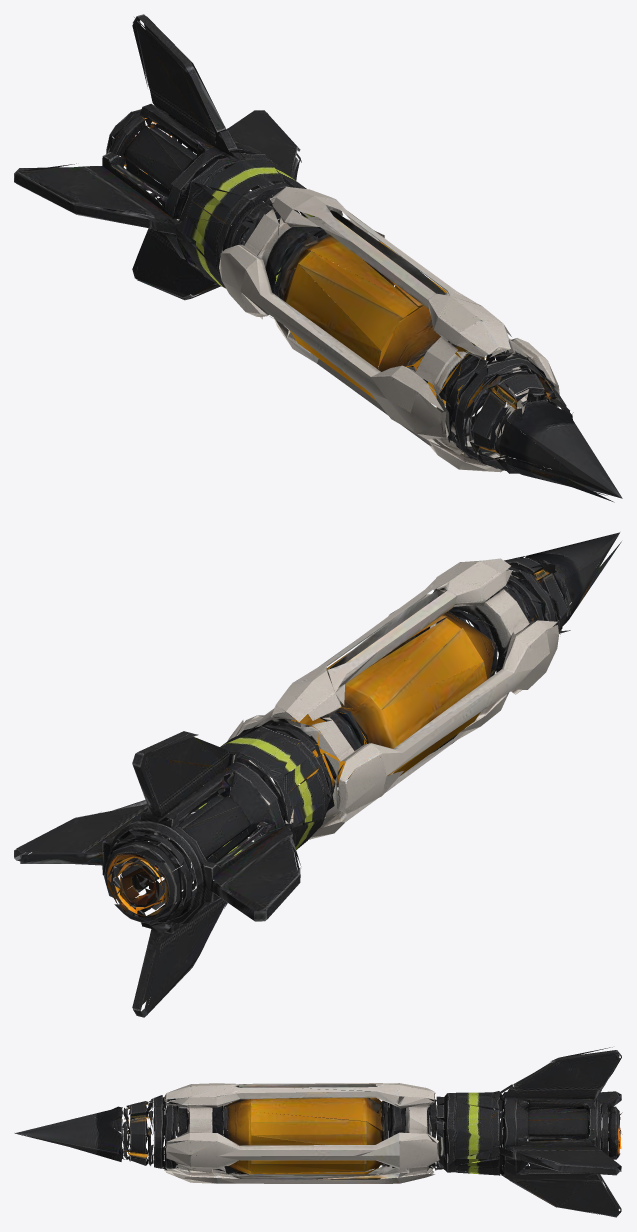
File: v5-dart.glb
3 views of the same model, one above another, from view 1: azimuth 30°, elevation 25°; view 2: azimuth 150°, elevation 25°; view 3: azimuth 270°, elevation 25° (orthographic). The views are drawn at different scales.
Visible parts, largest first — view 1: dart_body_00; view 2: dart_body_00; view 3: dart_body_00.
Boxes of the visible parts, x1,y1,x2,y2 form: dart_body_00: (14,14,622,502); dart_body_00: (14,532,621,1017); dart_body_00: (14,1047,622,1217).
Size of the model in its own units: 0.3011 by 0.3032 by 1.
1 material, 1 textured.
